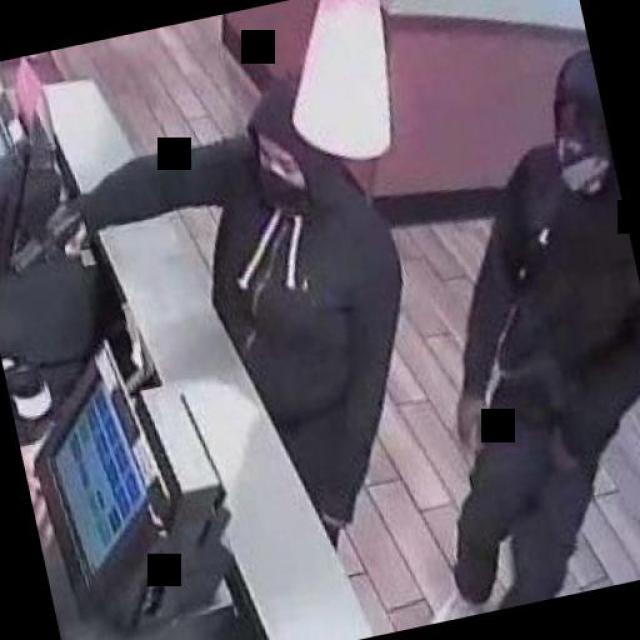gun: (2, 190, 88, 280)
